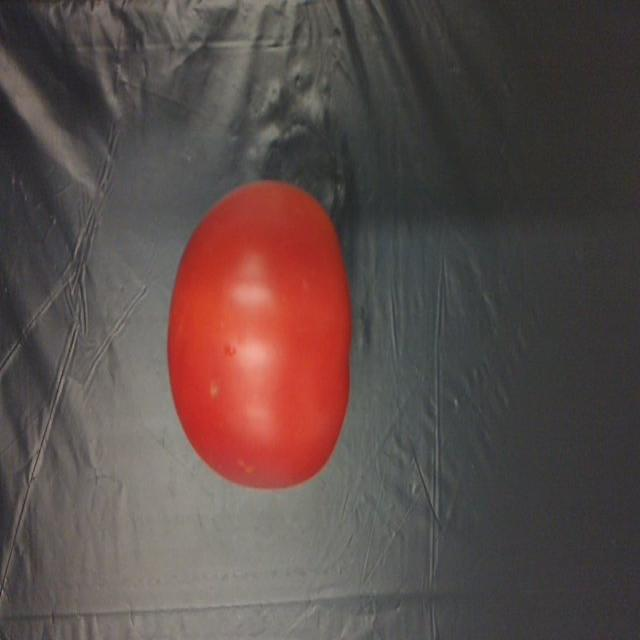kirmizi: (157, 146, 350, 504)
